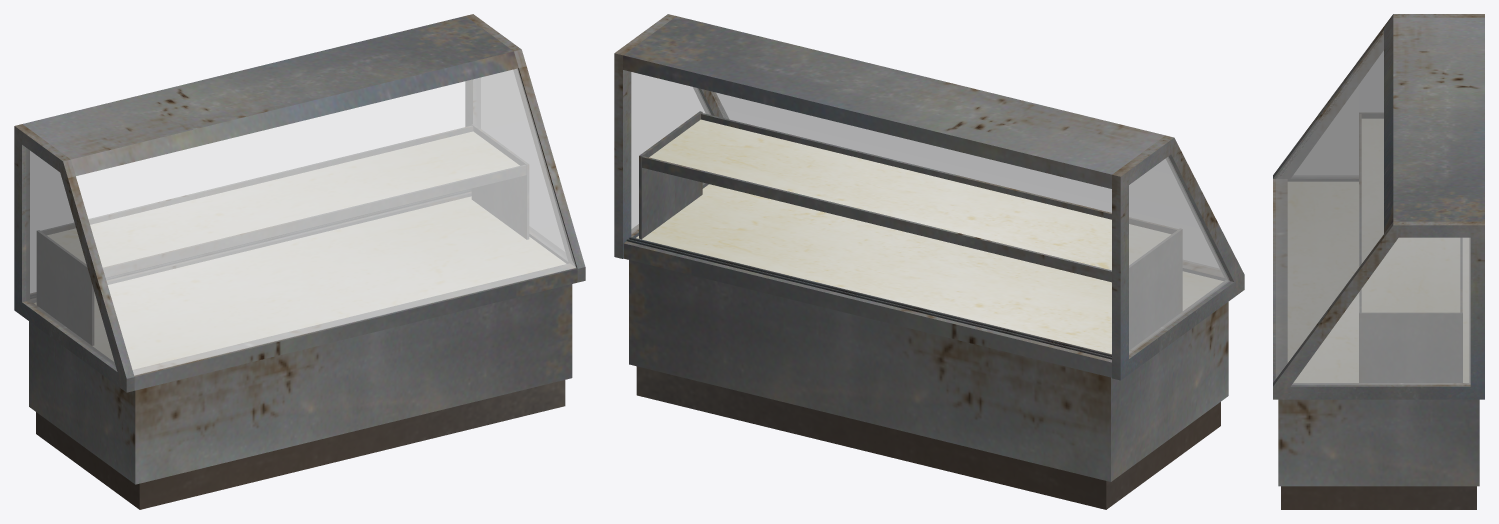
File: showcase021a.fbx
3 views of the same model, side by side, from view 1: azimuth 30°, elevation 25°; view 2: azimuth 150°, elevation 25°; view 3: azimuth 270°, elevation 25° (orthographic). The views are drawn at different scales.
Parts seen in each view (by area): view 1: showcase021a; view 2: showcase021a; view 3: showcase021a.
Boxes of the visible parts, x1=… form: showcase021a: x1=14, y1=14, x2=585, y2=509; showcase021a: x1=614, y1=14, x2=1244, y2=509; showcase021a: x1=1273, y1=14, x2=1484, y2=509.
Size of the model in its own units: 2.82 by 1.82 by 1.2.
